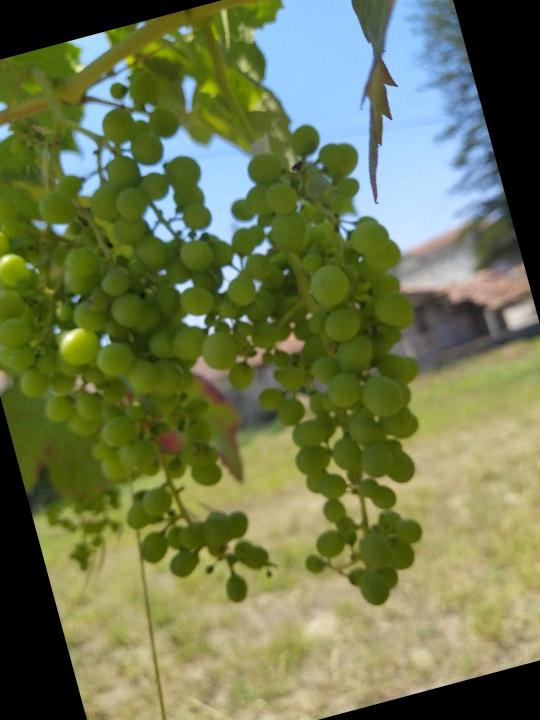grape: (0, 61, 314, 648), (169, 105, 493, 631)
